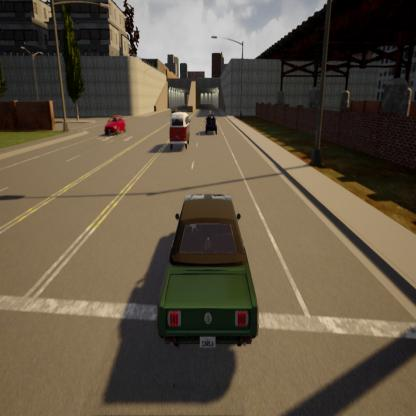Cars: (152, 189, 262, 362), (160, 106, 194, 154), (102, 110, 128, 145), (204, 111, 221, 140)
